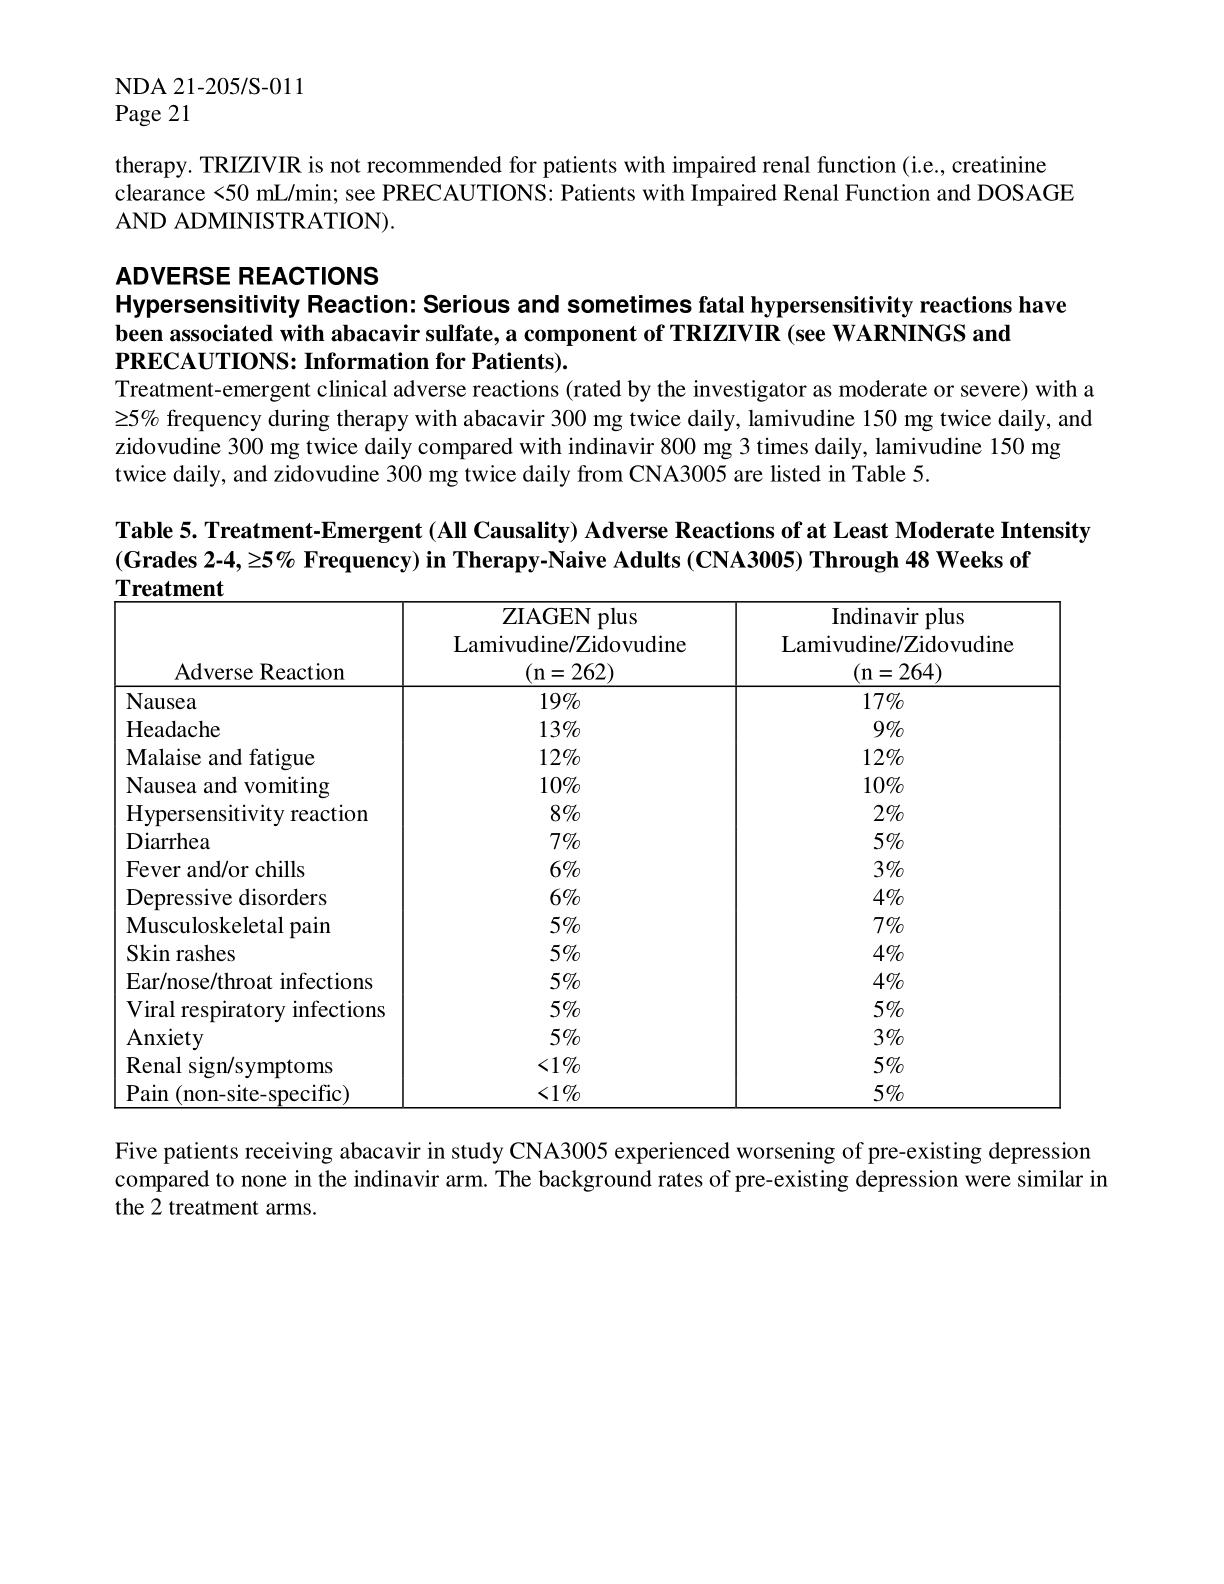partial_lined: (113, 600, 1062, 1111)
